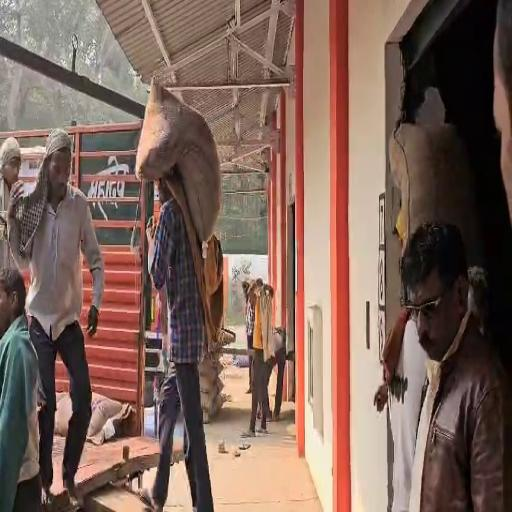bag: (138, 74, 224, 242), (390, 116, 468, 247)
